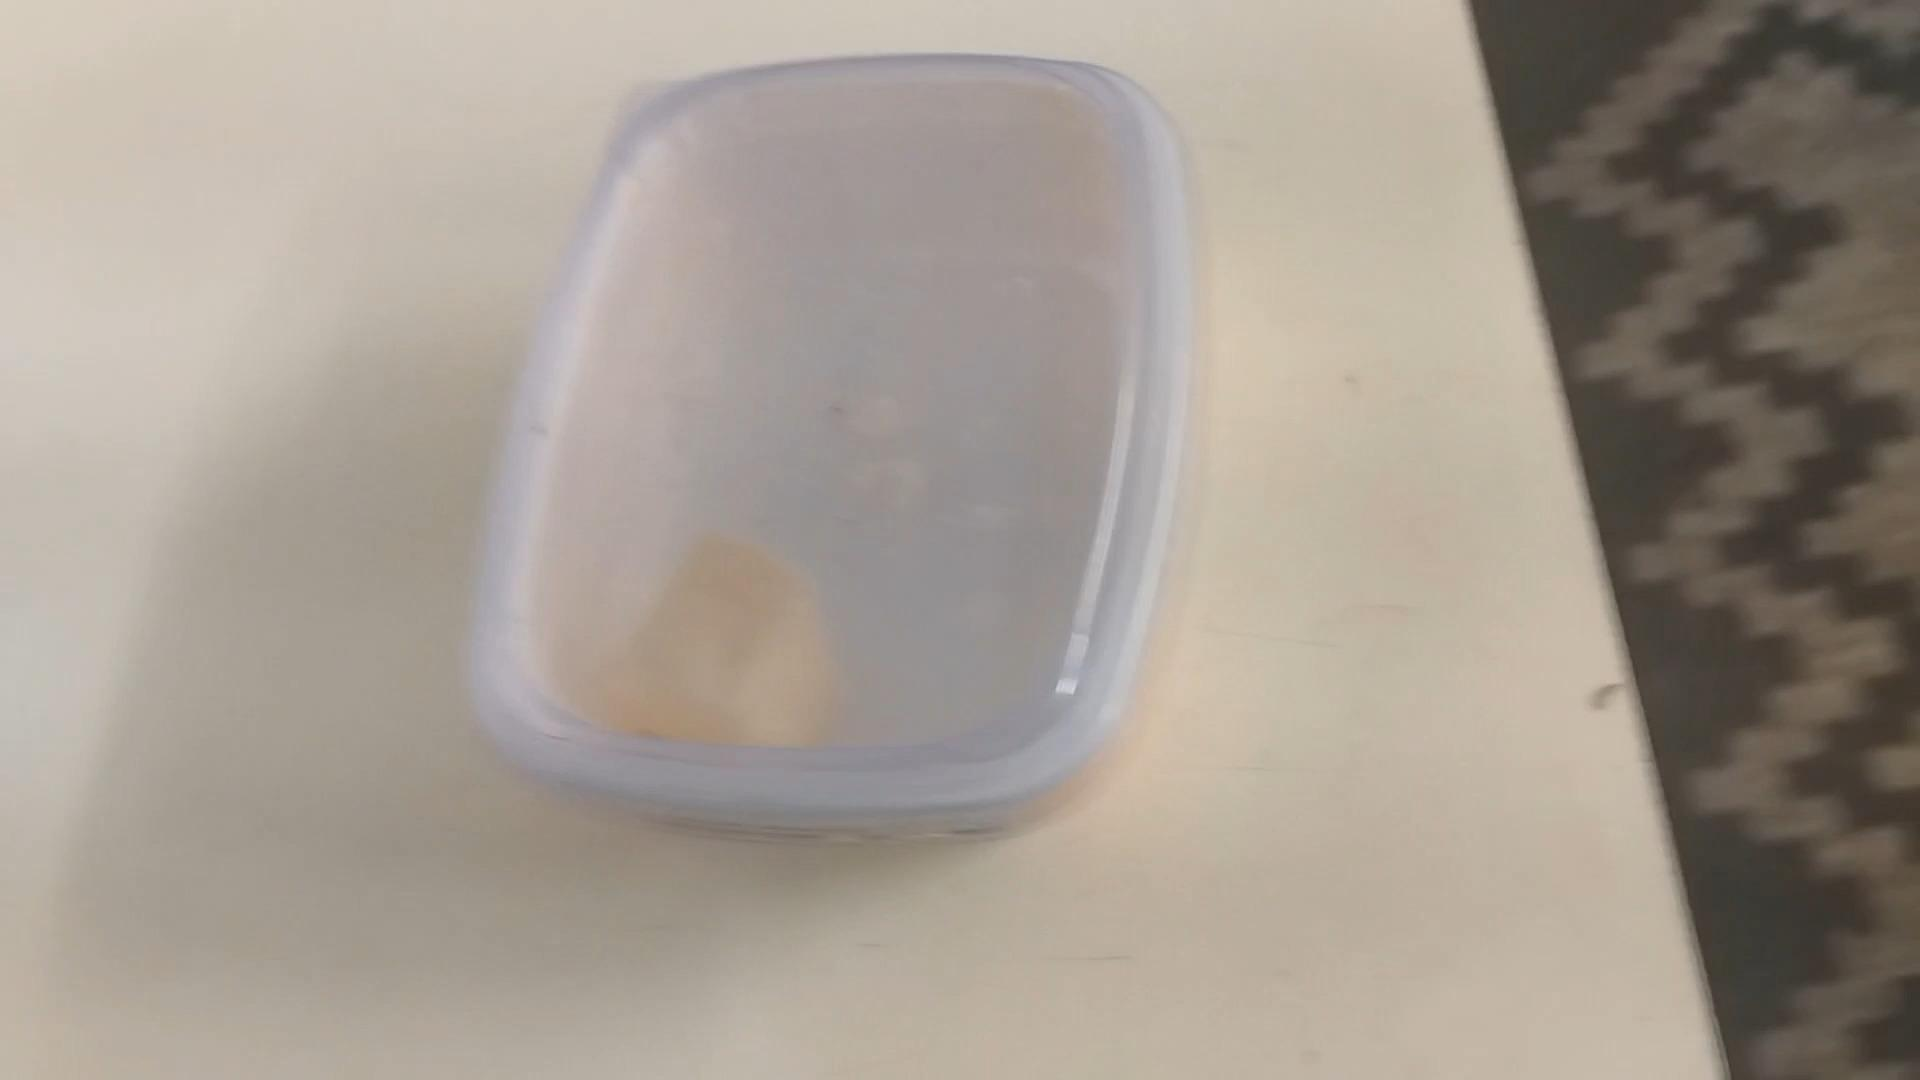butter: (468, 51, 1180, 843)
